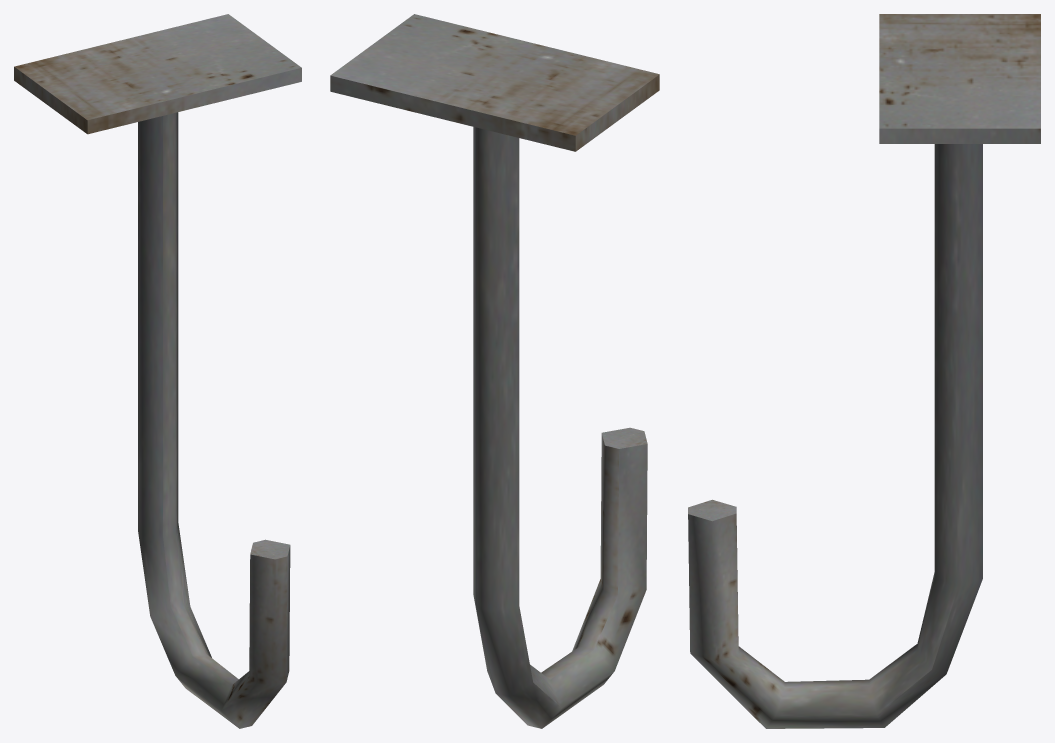
The model's file is hanger01c.fbx.
3 views of the same model, side by side, from view 1: azimuth 30°, elevation 25°; view 2: azimuth 150°, elevation 25°; view 3: azimuth 270°, elevation 25° (orthographic). The views are drawn at different scales.
Visible parts, largest first — view 1: fookholder01c; view 2: fookholder01c; view 3: fookholder01c.
Part boxes in pixels (box(x1,y1,x2,y2)): fookholder01c: box(14, 14, 301, 728); fookholder01c: box(330, 14, 659, 728); fookholder01c: box(688, 14, 1040, 728).
Bounding box in the file's own units: 6.73 × 17.88 × 8.73.
